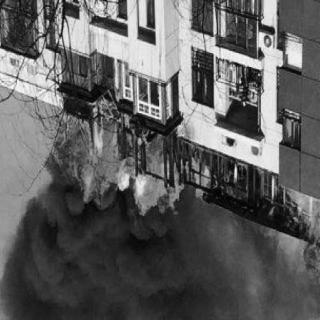Fire: (297, 196, 320, 280)
